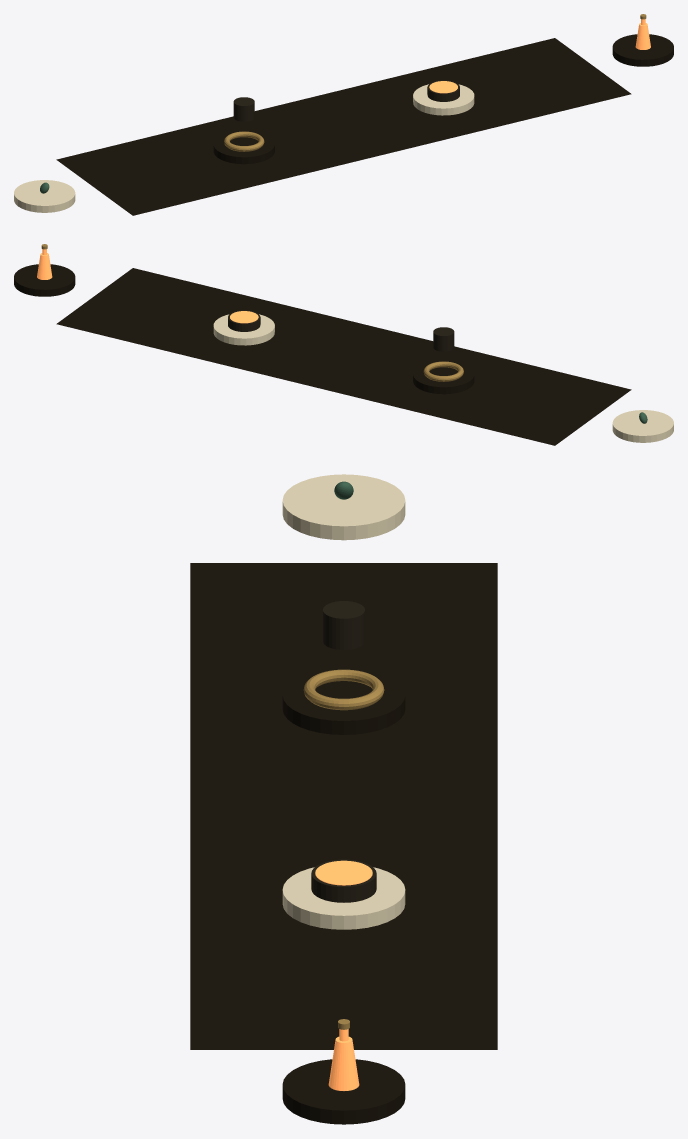
The model's file is seed-to-bottle.glb.
3 renders of one model, top to bottom at view 1: azimuth 30°, elevation 25°; view 2: azimuth 150°, elevation 25°; view 3: azimuth 270°, elevation 25°, orthographic. The views are drawn at different scales.
Parts seen in each view (by area): view 1: GroundPlane, Station1_Pedestal_Seed, Station4_Pedestal_Bottle, Station2_Pedestal_Press, Station3_Pedestal_Rest, Station2_PressBasin, Station2_PressWeight, Station3_Vessel, Station4_BottleBody; view 2: GroundPlane, Station1_Pedestal_Seed, Station4_Pedestal_Bottle, Station2_Pedestal_Press, Station3_Pedestal_Rest, Station2_PressBasin, Station2_PressWeight, Station3_Vessel, Station4_BottleBody; view 3: GroundPlane, Station1_Pedestal_Seed, Station4_Pedestal_Bottle, Station2_Pedestal_Press, Station3_Pedestal_Rest, Station2_PressBasin, Station2_PressWeight, Station3_Vessel, Station4_BottleBody, Station3_LiquidSurface.
Boxes of the visible parts, x1=… form: GroundPlane: x1=56, y1=38, x2=631, y2=215; Station1_Pedestal_Seed: x1=14, y1=180, x2=75, y2=212; Station4_Pedestal_Bottle: x1=612, y1=34, x2=673, y2=66; Station2_Pedestal_Press: x1=213, y1=131, x2=274, y2=164; Station3_Pedestal_Rest: x1=413, y1=84, x2=474, y2=115; Station2_PressBasin: x1=224, y1=131, x2=264, y2=151; Station2_PressWeight: x1=233, y1=97, x2=254, y2=121; Station3_Vessel: x1=427, y1=80, x2=459, y2=101; Station4_BottleBody: x1=635, y1=23, x2=650, y2=49; GroundPlane: x1=56, y1=268, x2=631, y2=445; Station1_Pedestal_Seed: x1=612, y1=410, x2=673, y2=442; Station4_Pedestal_Bottle: x1=14, y1=264, x2=75, y2=296; Station2_Pedestal_Press: x1=413, y1=361, x2=474, y2=394; Station3_Pedestal_Rest: x1=213, y1=314, x2=274, y2=345; Station2_PressBasin: x1=423, y1=361, x2=463, y2=381; Station2_PressWeight: x1=433, y1=327, x2=454, y2=351; Station3_Vessel: x1=228, y1=310, x2=260, y2=331; Station4_BottleBody: x1=37, y1=253, x2=52, y2=279; GroundPlane: x1=190, y1=563, x2=497, y2=1049; Station1_Pedestal_Seed: x1=282, y1=474, x2=405, y2=540; Station4_Pedestal_Bottle: x1=282, y1=1059, x2=405, y2=1124; Station2_Pedestal_Press: x1=282, y1=669, x2=405, y2=734; Station3_Pedestal_Rest: x1=282, y1=867, x2=405, y2=929; Station2_PressBasin: x1=303, y1=669, x2=384, y2=710; Station2_PressWeight: x1=323, y1=601, x2=364, y2=649; Station3_Vessel: x1=311, y1=859, x2=376, y2=902; Station4_BottleBody: x1=328, y1=1036, x2=359, y2=1090; Station3_LiquidSurface: x1=315, y1=860, x2=372, y2=885.
Bounding box in the file's own units: 39.2 × 2.85 × 8.
